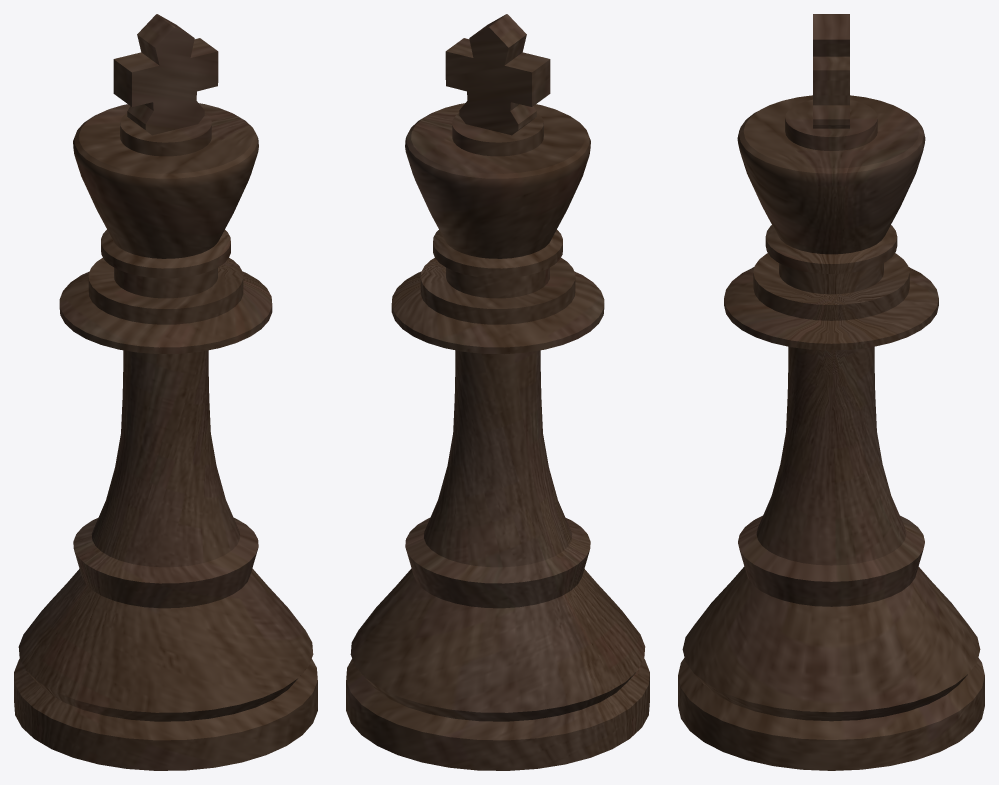
Rendered from King.obj.
3 renders of one model, left to right at view 1: azimuth 30°, elevation 25°; view 2: azimuth 150°, elevation 25°; view 3: azimuth 270°, elevation 25°, orthographic.
Visible parts, largest first — view 1: king.001_Cylinder.009; view 2: king.001_Cylinder.009; view 3: king.001_Cylinder.009.
Boxes of the visible parts, box(x1,y1,x2,y2) form: king.001_Cylinder.009: box(14, 14, 317, 770); king.001_Cylinder.009: box(346, 14, 649, 770); king.001_Cylinder.009: box(678, 14, 984, 770).
Size of the model in its own units: 1.25 by 3.11 by 1.25.
